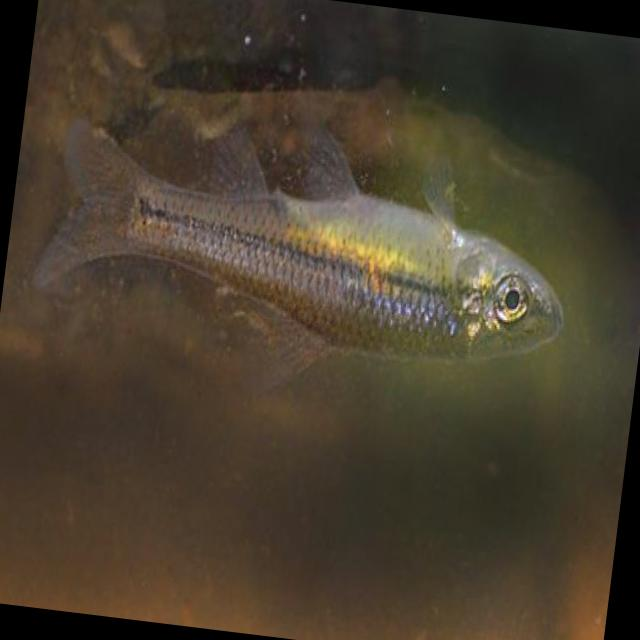Cakil Baligi: (18, 88, 586, 430)
